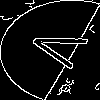V: (25, 25, 100, 73)
